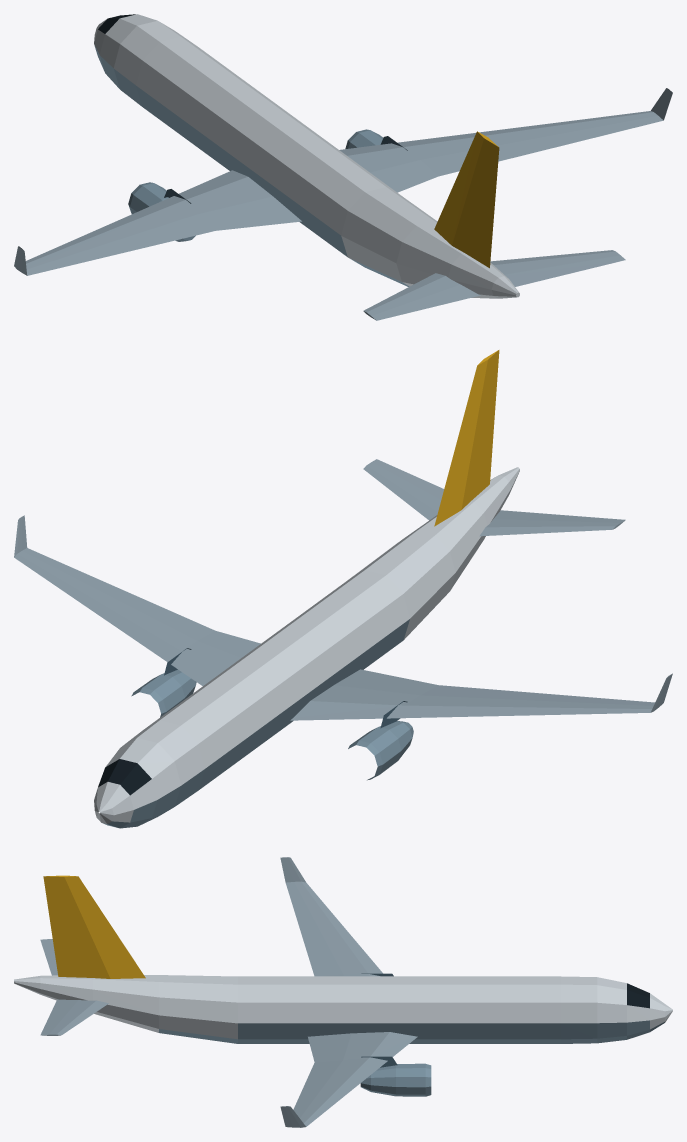
The picture shows the model from 3 angles, top to bottom: view 1: azimuth 30°, elevation 25°; view 2: azimuth 150°, elevation 25°; view 3: azimuth 270°, elevation 25°; orthographic projection. The views are drawn at different scales.
Parts seen in each view (by area): view 1: lod0; view 2: lod0; view 3: lod0.
Boxes of the visible parts, <box> form: lod0: <box>14,14,672,320</box>; lod0: <box>14,350,672,828</box>; lod0: <box>14,857,672,1127</box>.
Size of what is drawn, in the model's own units: 0.8938 by 0.2959 by 1.
